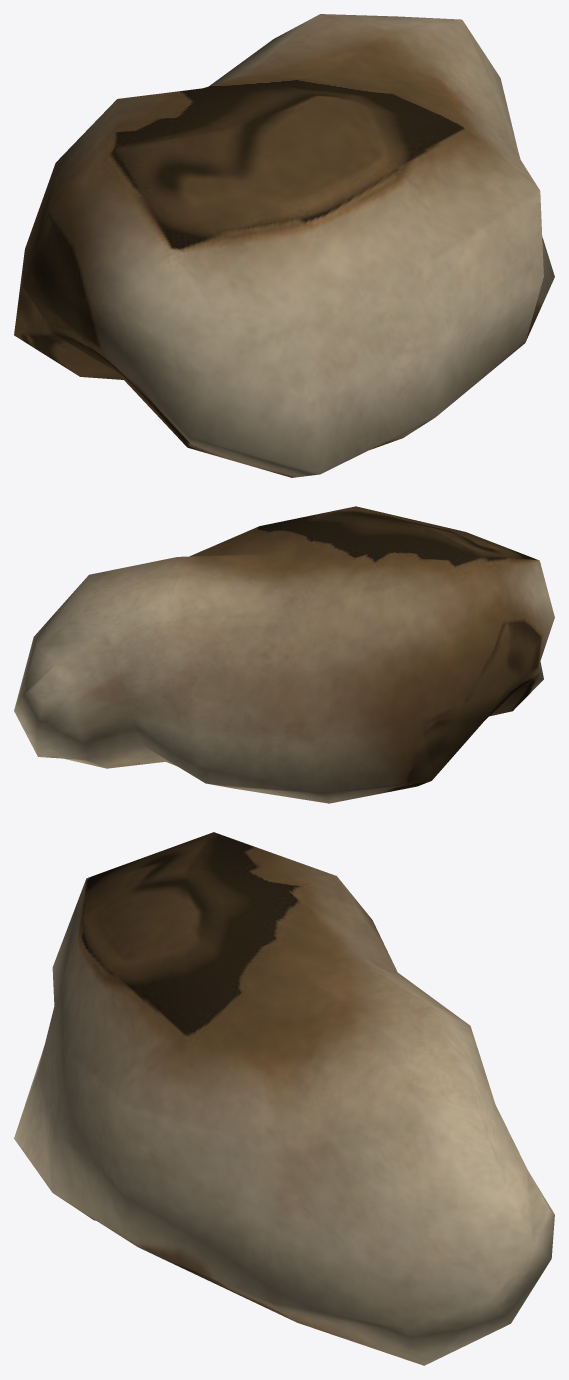
The model's file is Radial.glb.
3 renders of one model, top to bottom at view 1: azimuth 30°, elevation 25°; view 2: azimuth 150°, elevation 25°; view 3: azimuth 270°, elevation 25°, orthographic. The views are drawn at different scales.
Visible parts, largest first — view 1: Radial_Right1:Group52780; view 2: Radial_Right1:Group52780; view 3: Radial_Right1:Group52780.
Part boxes in pixels (x1,y1,x2,y2): Radial_Right1:Group52780: [14, 14, 554, 477]; Radial_Right1:Group52780: [14, 506, 554, 803]; Radial_Right1:Group52780: [14, 832, 554, 1365].
Bounding box in the file's own units: 19.87 × 10.92 × 16.79.
1 material, 1 textured.
